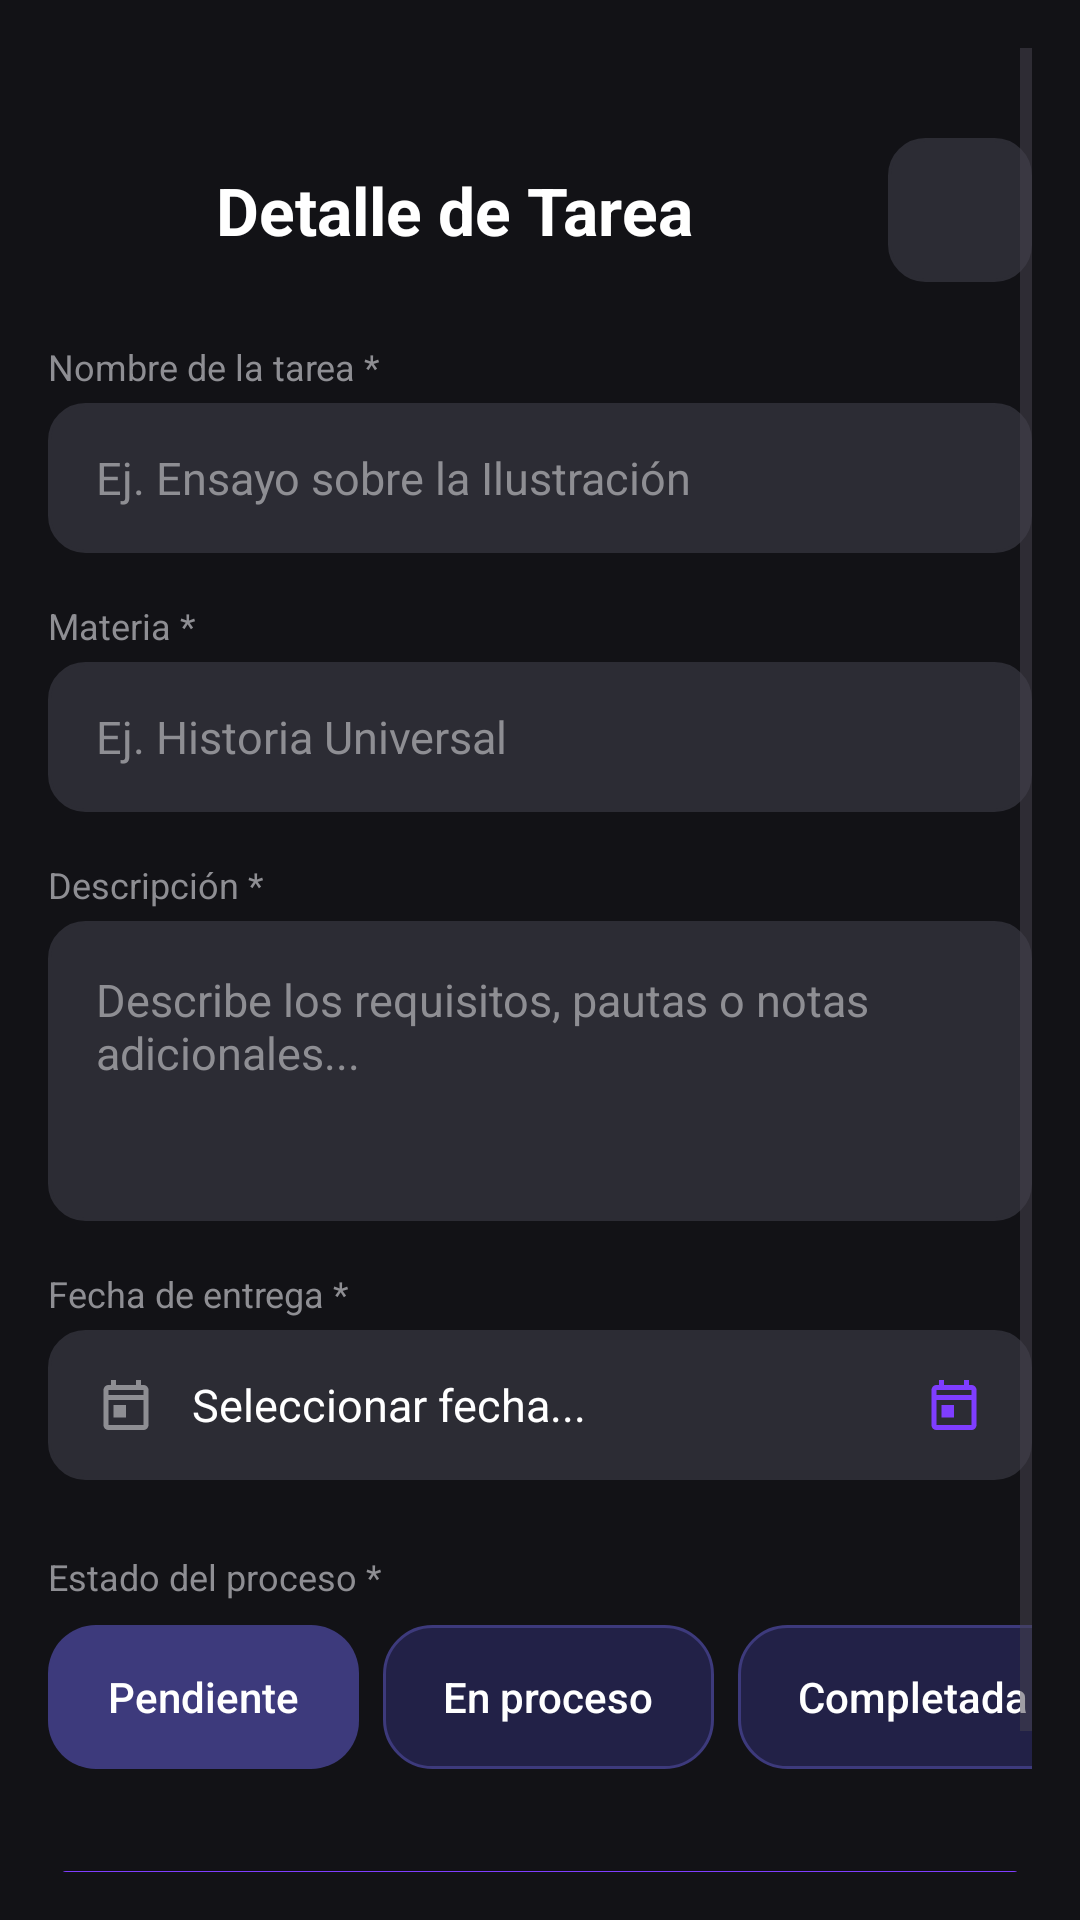

Where icons sit on this 1080x1920 app screen, as bbox=[x1, y1, x2, y2]:
Calendario: bbox=[103, 1380, 149, 1430], bbox=[931, 1380, 977, 1430]
